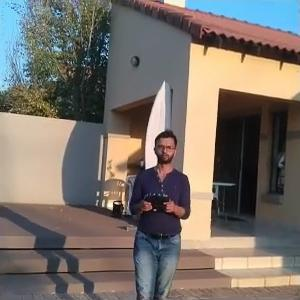follow: (125, 122, 196, 298)
